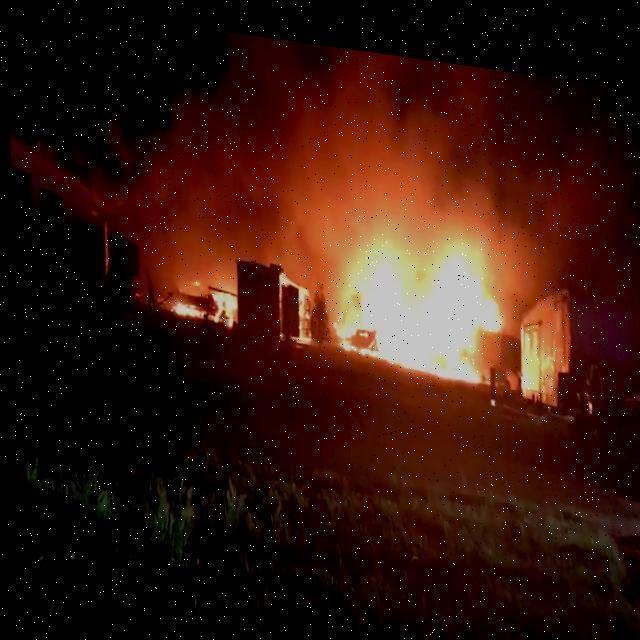Fire: (326, 210, 497, 374)
